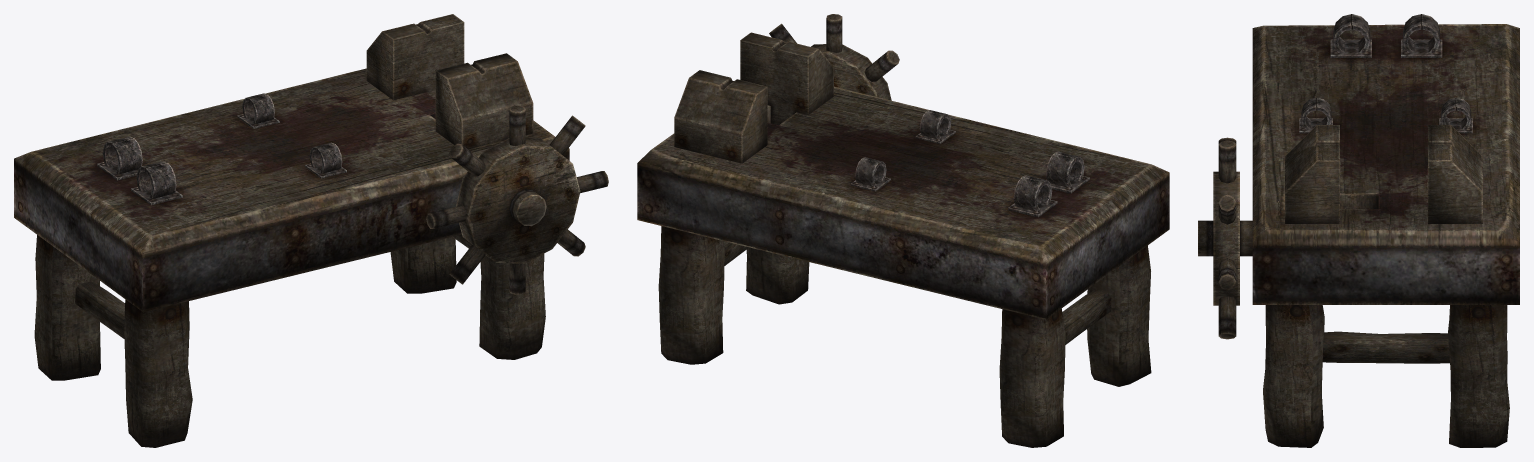
File: torturetable.dae
The picture shows the model from 3 angles, left to right: view 1: azimuth 30°, elevation 25°; view 2: azimuth 150°, elevation 25°; view 3: azimuth 270°, elevation 25°; orthographic projection. The views are drawn at different scales.
Visible parts, largest first — view 1: polySurface20, polySurface19, pCube13, polySurface1; view 2: polySurface20, pCube13, polySurface1, polySurface19; view 3: polySurface20, polySurface19, pCube13, polySurface1.
Boxes of the visible parts, <box> form: polySurface20: <box>14,14,569,447</box>; polySurface19: <box>426,105,608,294</box>; pCube13: <box>435,53,533,149</box>; polySurface1: <box>97,93,346,205</box>; polySurface20: <box>637,70,1169,447</box>; pCube13: <box>740,32,833,125</box>; polySurface1: <box>850,110,1089,217</box>; polySurface19: <box>769,14,899,100</box>; polySurface20: <box>1252,24,1519,447</box>; polySurface19: <box>1198,137,1252,339</box>; pCube13: <box>1285,125,1339,223</box>; polySurface1: <box>1299,14,1472,133</box>.
Bounding box in the file's own units: 2.21 × 1.29 × 1.32.
